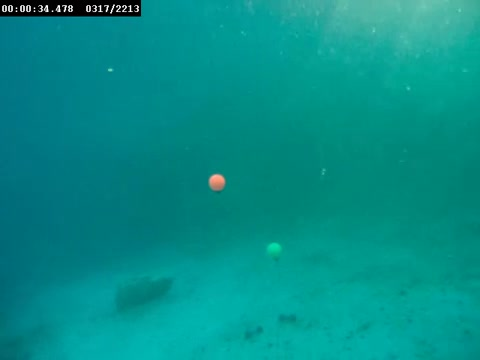buoy_green: (267, 241, 282, 263)
buoy_red: (208, 171, 226, 197)
